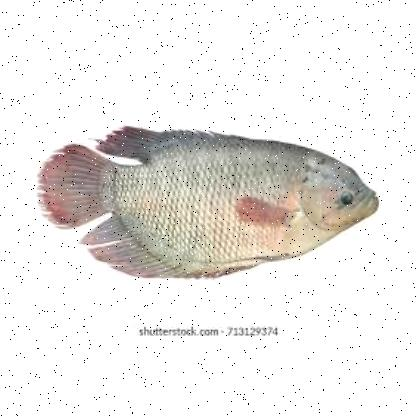gurame: (40, 122, 382, 282)
